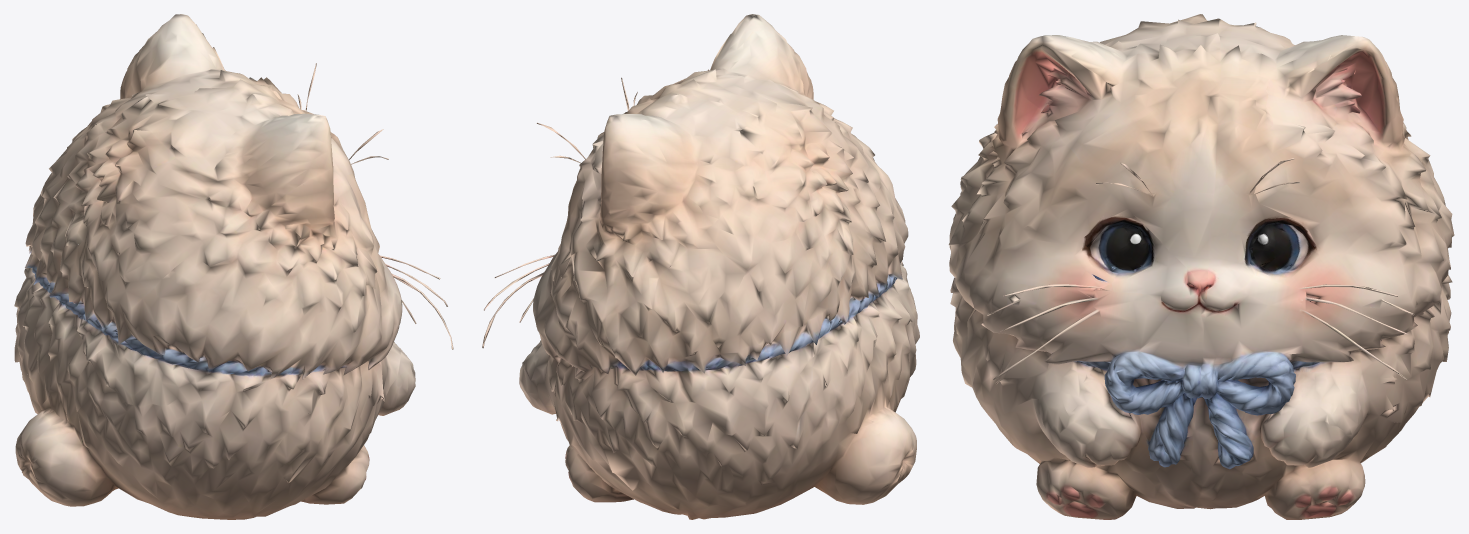
Rendered from CAT_L01.glb.
The picture shows the model from 3 angles, left to right: view 1: azimuth 30°, elevation 25°; view 2: azimuth 150°, elevation 25°; view 3: azimuth 270°, elevation 25°; orthographic projection. The views are drawn at different scales.
Parts seen in each view (by area): view 1: tripo_node_0caad9c7-042d-4202-9198-af4669d0b8cd; view 2: tripo_node_0caad9c7-042d-4202-9198-af4669d0b8cd; view 3: tripo_node_0caad9c7-042d-4202-9198-af4669d0b8cd.
Part boxes in pixels (box(x1,y1,x2,y2)): tripo_node_0caad9c7-042d-4202-9198-af4669d0b8cd: box(14, 14, 453, 519); tripo_node_0caad9c7-042d-4202-9198-af4669d0b8cd: box(482, 14, 919, 519); tripo_node_0caad9c7-042d-4202-9198-af4669d0b8cd: box(948, 14, 1454, 519).
Bounding box in the file's own units: 0.8645 × 0.9769 × 0.9722.
1 material, 1 textured.
